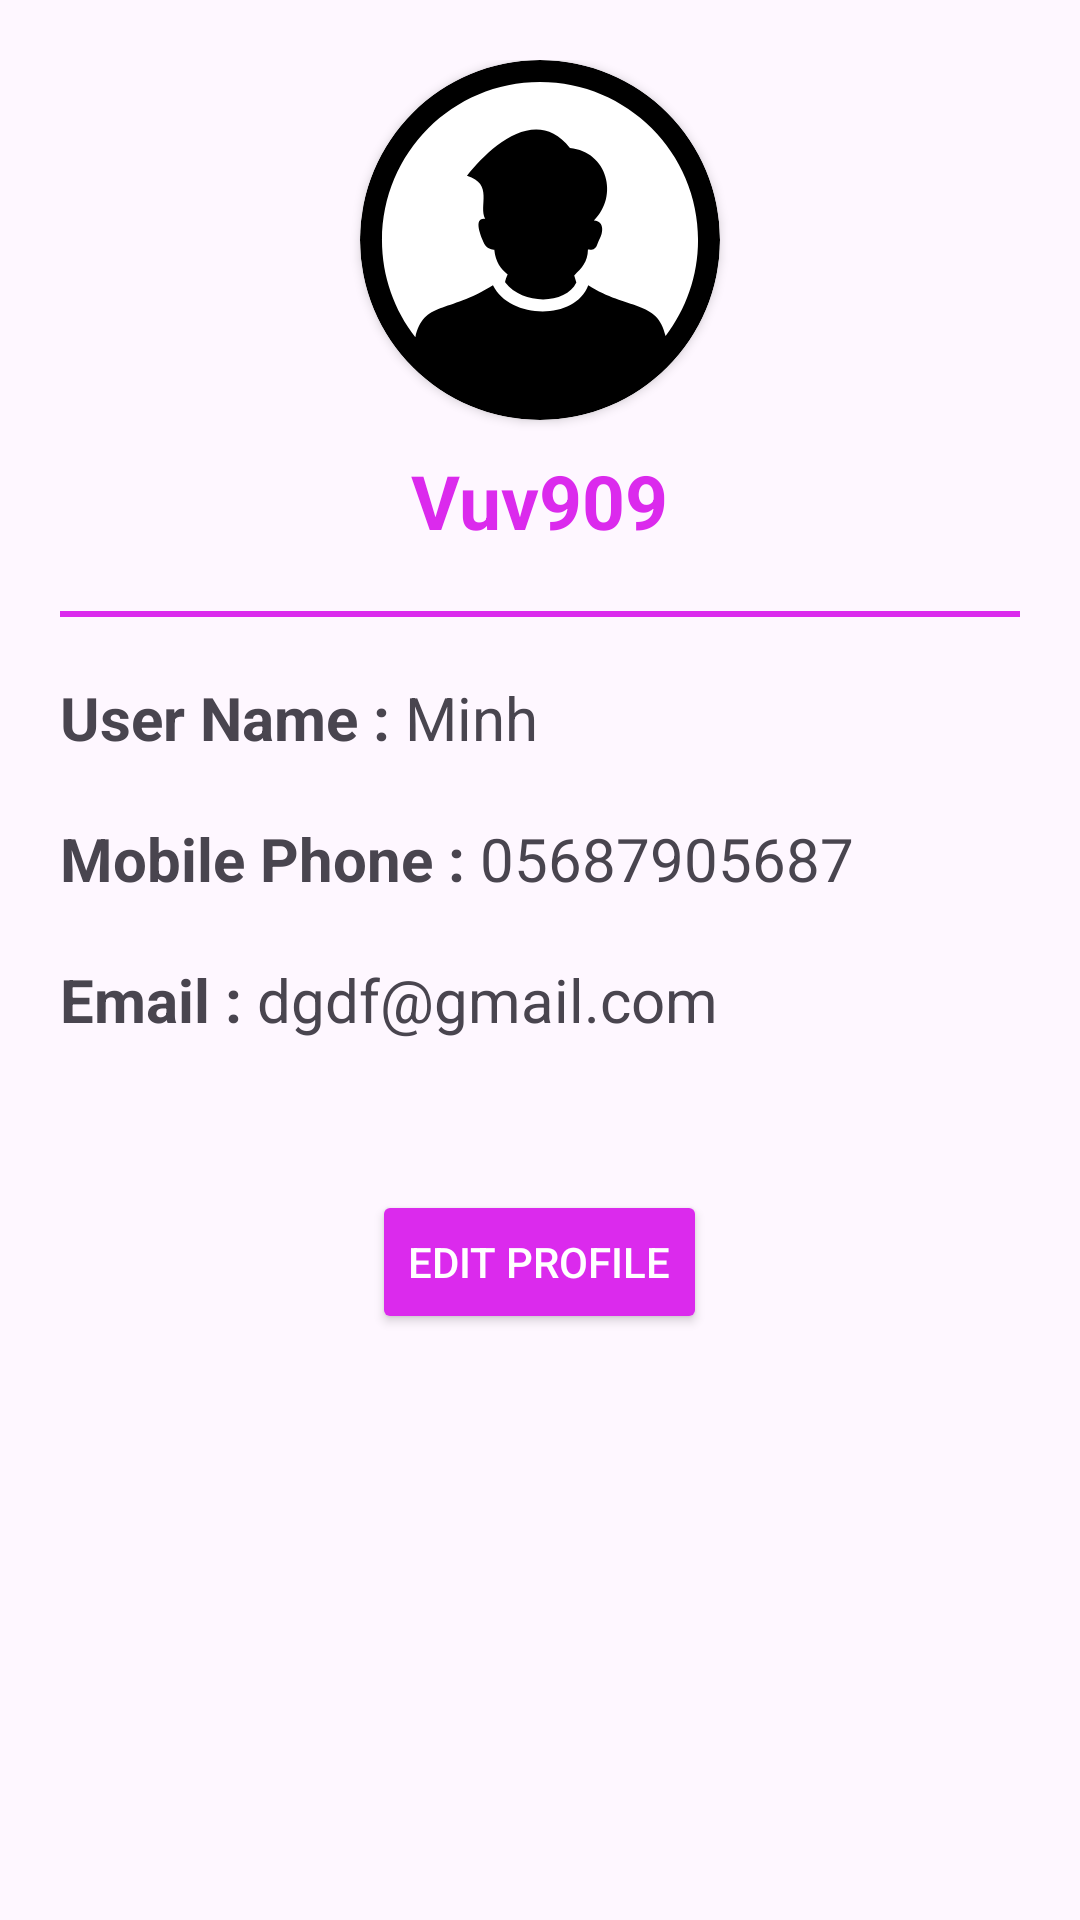

Screen size 1080px x 1920px. Icon name, then its center in pixels as [x,y]:
iconavatar: [540,240]
